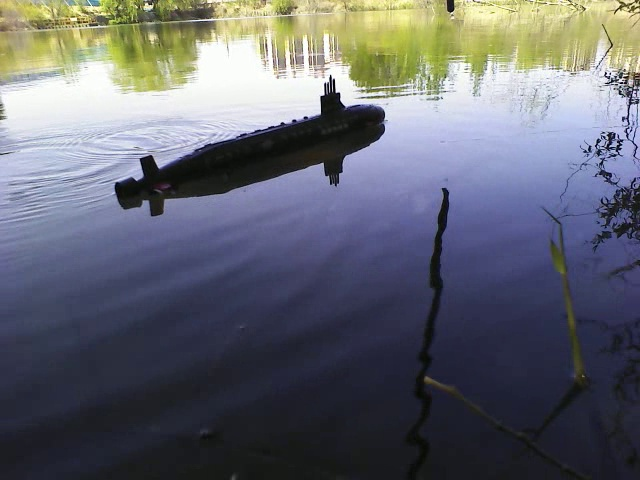submarine: (110, 76, 391, 203)
